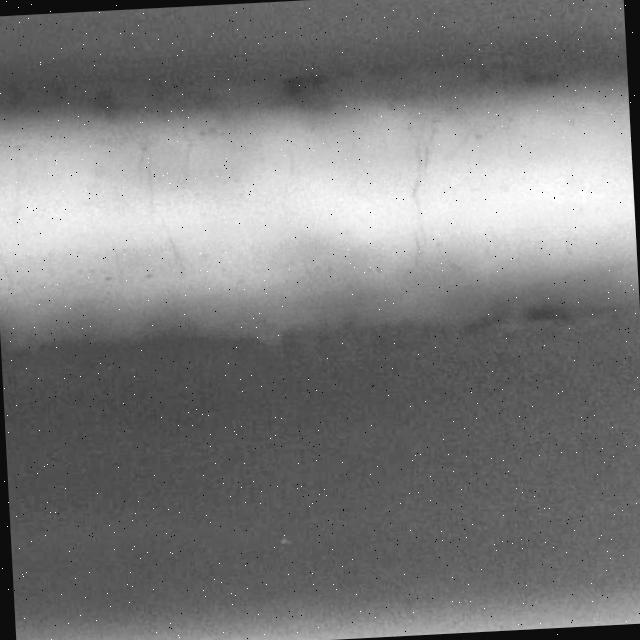Crack: (376, 111, 470, 292), (115, 124, 207, 280)
